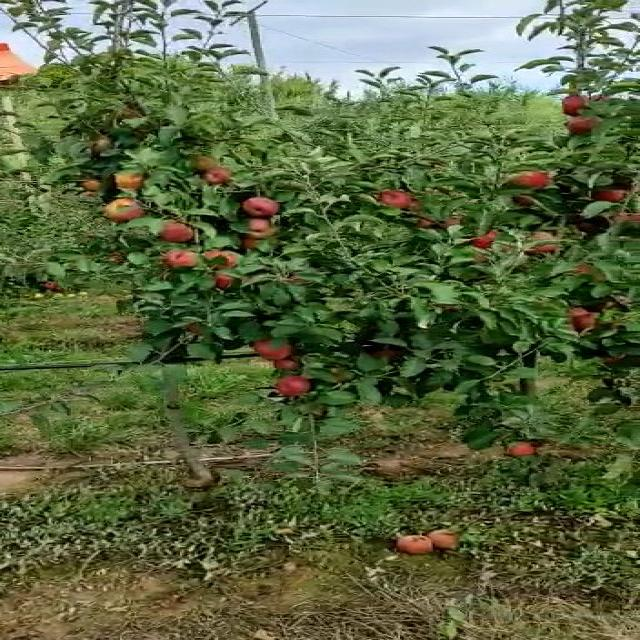100-_ripeness: (93, 196, 158, 225), (149, 217, 206, 247), (504, 169, 560, 195), (594, 184, 640, 213), (554, 96, 614, 116), (108, 169, 168, 188), (197, 248, 246, 271), (526, 227, 564, 255), (160, 249, 213, 269), (469, 226, 509, 252), (249, 337, 296, 358), (274, 375, 316, 398), (244, 217, 278, 245), (376, 190, 416, 213), (244, 196, 284, 216), (568, 112, 608, 132), (571, 307, 598, 330), (266, 358, 304, 374), (209, 170, 235, 185)
